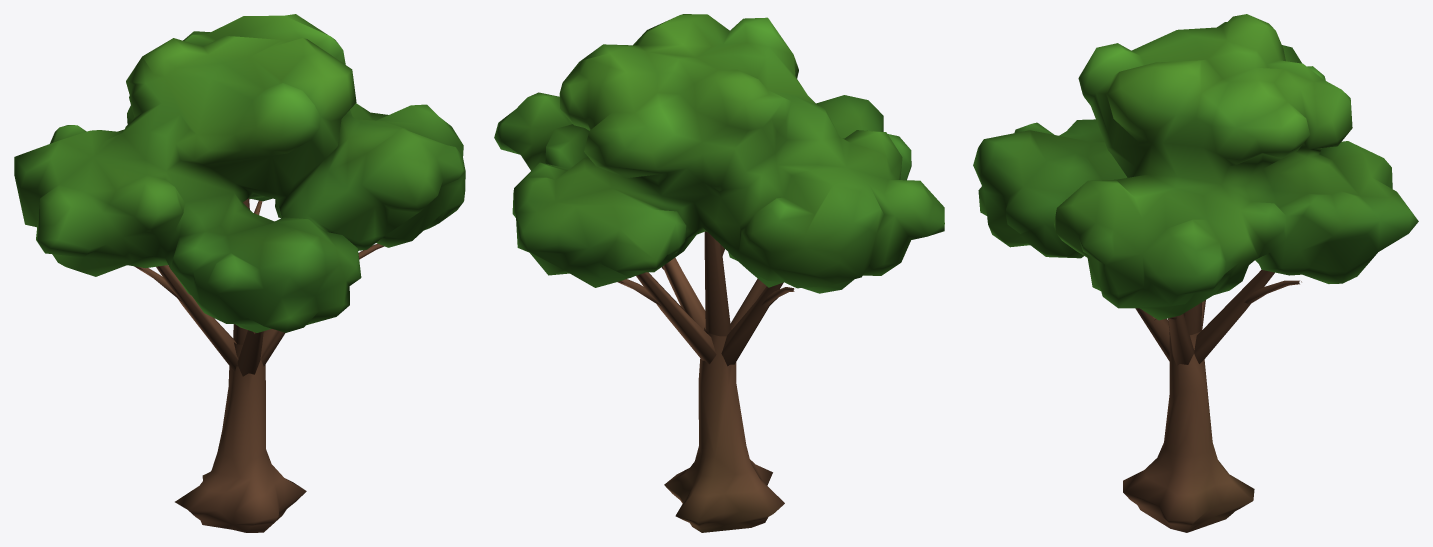
Rendered from tree-broadleaf.glb.
The picture shows the model from 3 angles, left to right: view 1: azimuth 30°, elevation 25°; view 2: azimuth 150°, elevation 25°; view 3: azimuth 270°, elevation 25°; orthographic projection. The views are drawn at different scales.
Parts seen in each view (by area): view 1: Broadleaf A Leaves, Broadleaf A Bark; view 2: Broadleaf A Leaves, Broadleaf A Bark; view 3: Broadleaf A Leaves, Broadleaf A Bark.
Part boxes in pixels (x1,y1,x2,y2): Broadleaf A Leaves: (14, 14, 465, 332); Broadleaf A Bark: (134, 198, 384, 532); Broadleaf A Leaves: (494, 14, 944, 293); Broadleaf A Bark: (617, 231, 794, 532); Broadleaf A Leaves: (973, 14, 1418, 320); Broadleaf A Bark: (1123, 269, 1301, 532).
Size of the model in its own units: 8.07 by 8.44 by 7.14.
